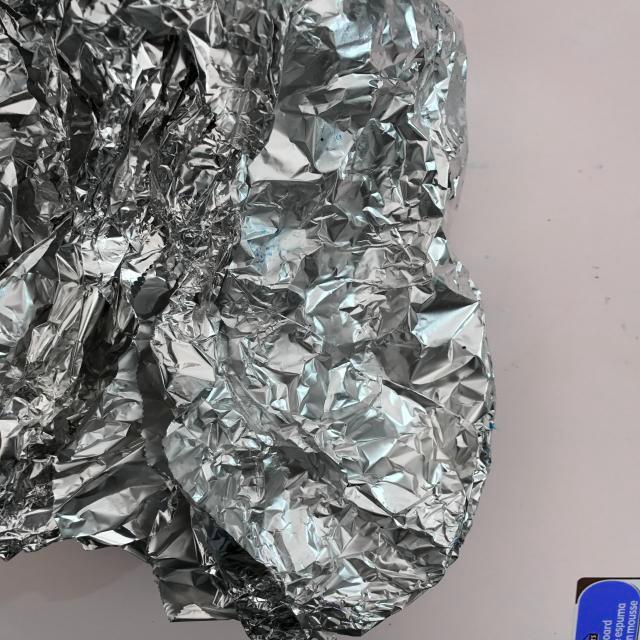metal: (0, 0, 494, 640)
